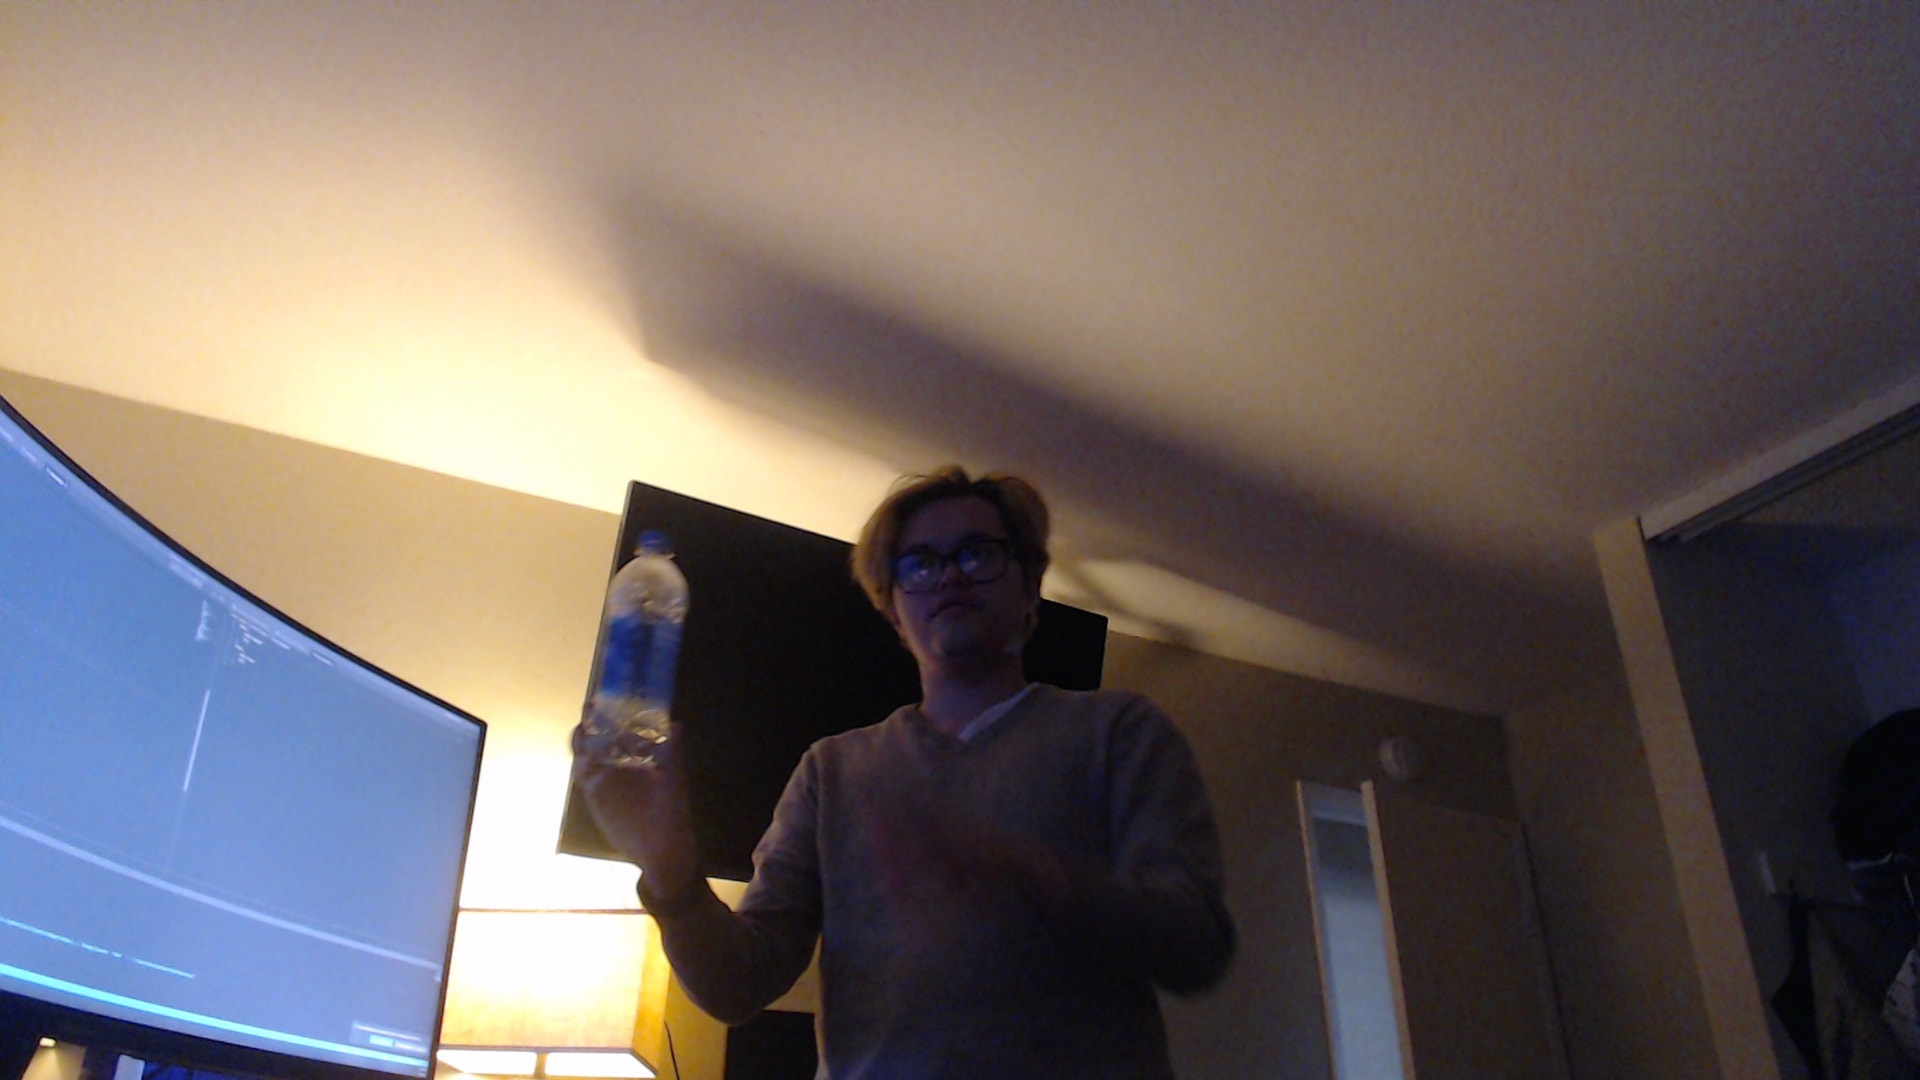bottle: (589, 527, 688, 771)
